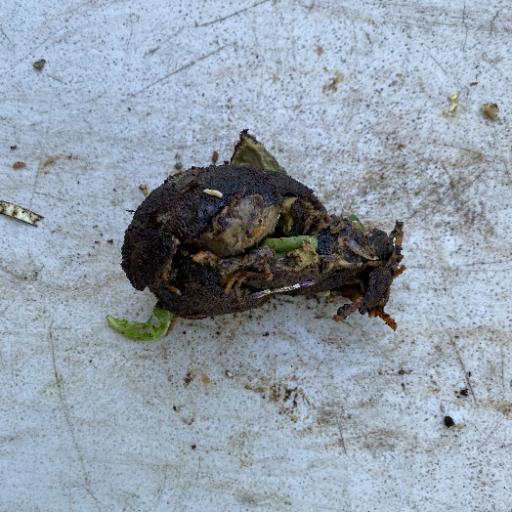Waste: (106, 127, 406, 342)
